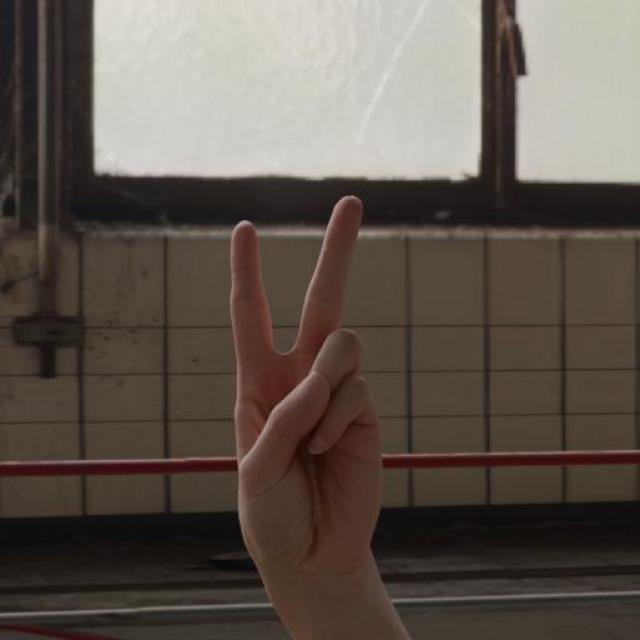V: (225, 193, 388, 588)
